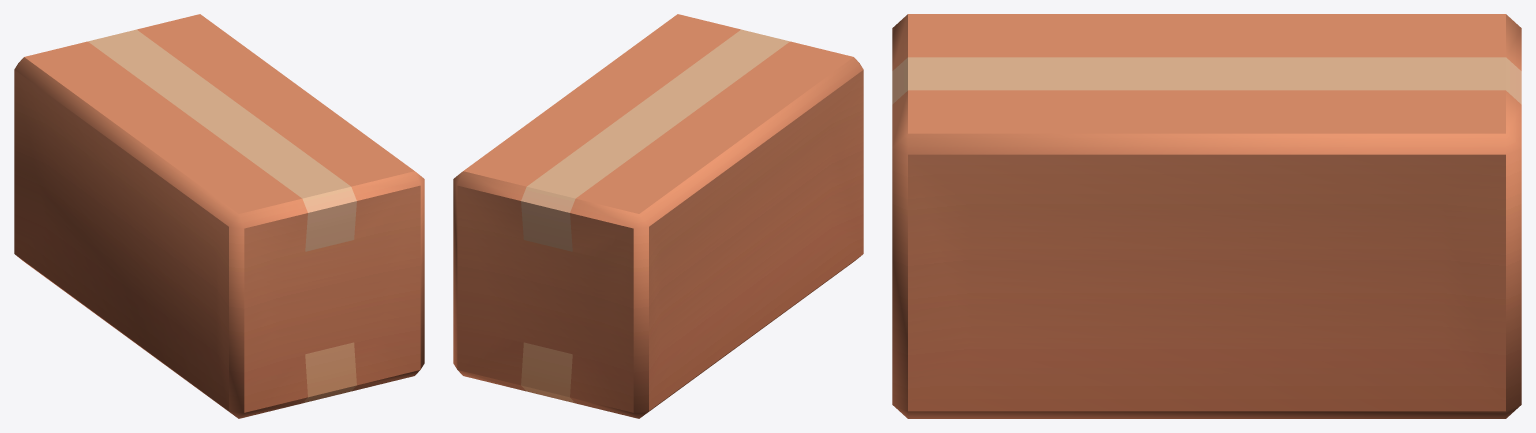
Rendered from box-large.glb.
3 views of the same model, side by side, from view 1: azimuth 30°, elevation 25°; view 2: azimuth 150°, elevation 25°; view 3: azimuth 270°, elevation 25° (orthographic). The views are drawn at different scales.
Visible parts, largest first — view 1: box-large; view 2: box-large; view 3: box-large.
Part boxes in pixels (bbox=[...]): box-large: bbox=[14, 14, 424, 418]; box-large: bbox=[453, 14, 863, 418]; box-large: bbox=[892, 14, 1521, 418].
Size of the model in its own units: 0.25 by 0.25 by 0.5.
Materials: 1 (1 with a texture image).
